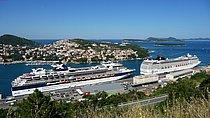Ship: (7, 61, 138, 97), (139, 52, 205, 74)
